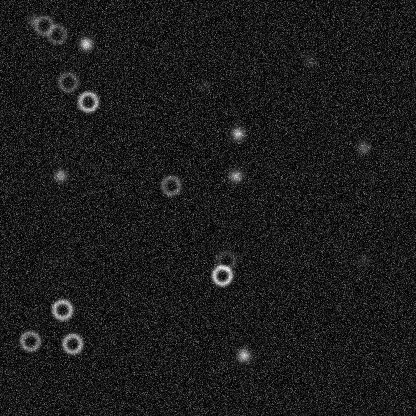Ring: (50, 297, 74, 321), (55, 69, 79, 93), (60, 331, 84, 355), (31, 13, 55, 37), (44, 22, 68, 46), (213, 248, 237, 272), (75, 89, 99, 113), (209, 263, 233, 287), (18, 328, 42, 352), (158, 173, 182, 197)
Spot: (25, 12, 41, 28), (354, 252, 370, 268), (355, 139, 371, 155), (52, 167, 68, 183), (301, 53, 317, 69), (229, 125, 245, 141), (227, 167, 243, 183), (196, 77, 212, 93), (235, 347, 251, 363), (77, 35, 93, 51)
